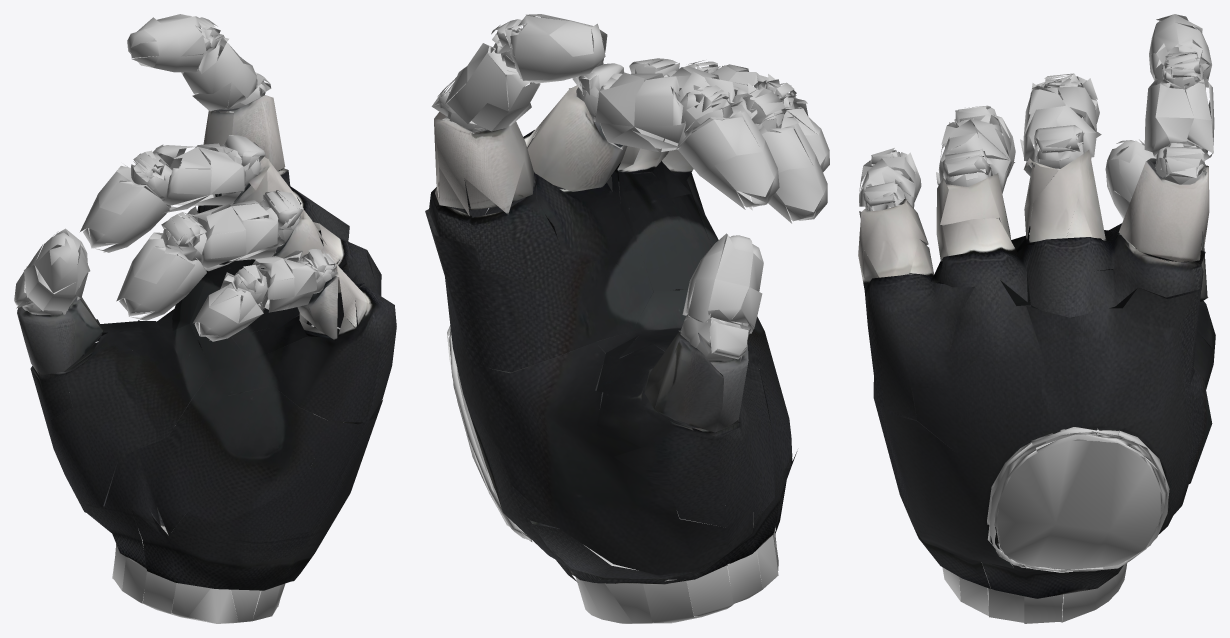
Rendered from HandLeft.fbx.
The picture shows the model from 3 angles, left to right: view 1: azimuth 30°, elevation 25°; view 2: azimuth 150°, elevation 25°; view 3: azimuth 270°, elevation 25°; orthographic projection. The views are drawn at different scales.
Visible parts, largest first — view 1: HandLeftMesh; view 2: HandLeftMesh; view 3: HandLeftMesh.
Boxes of the visible parts, <box> form: HandLeftMesh: <box>14,14,396,623</box>; HandLeftMesh: <box>425,14,829,623</box>; HandLeftMesh: <box>858,14,1215,623</box>.
Size of the model in its own units: 12.91 by 22.83 by 12.71.
